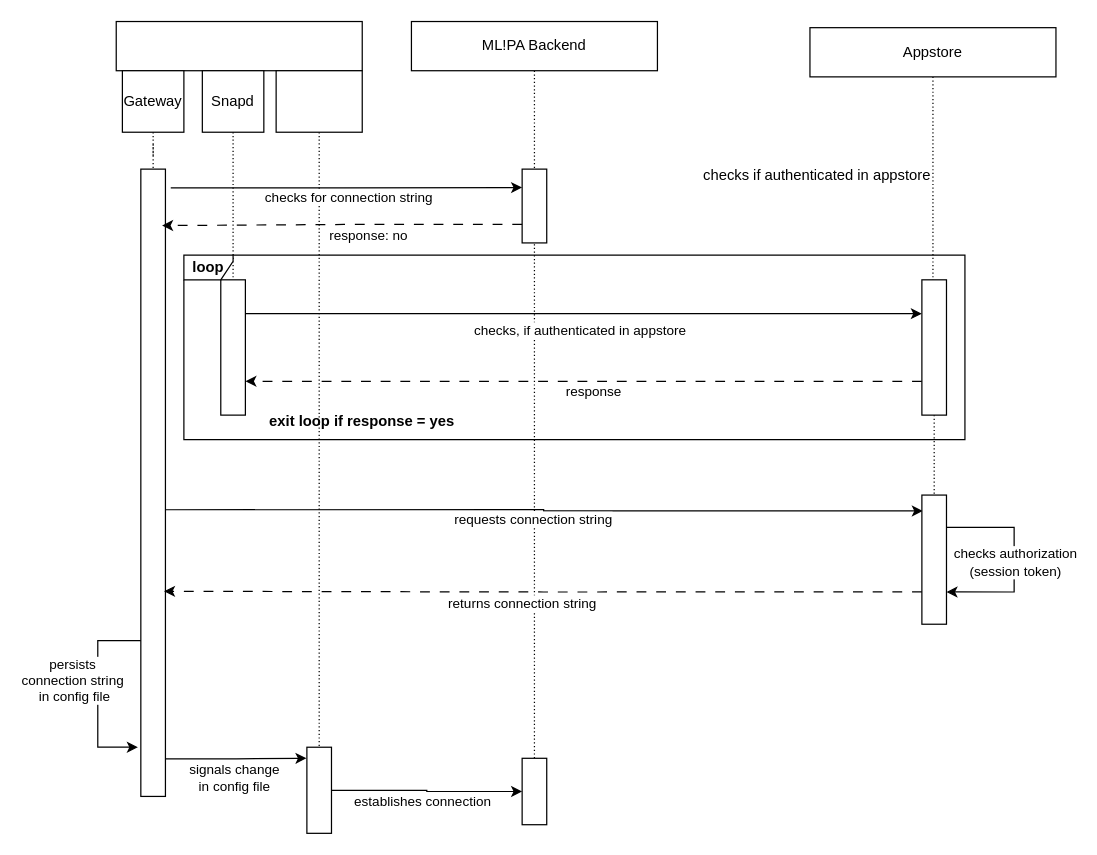
The diagram is 1097 pixels wide and 855 high, and some of its shapes have lost their labels. Each missing label, with the centre of its shape:
"Edge Device" goes at (x=238, y=45).
"Messaging Uplink" goes at (x=318, y=100).
